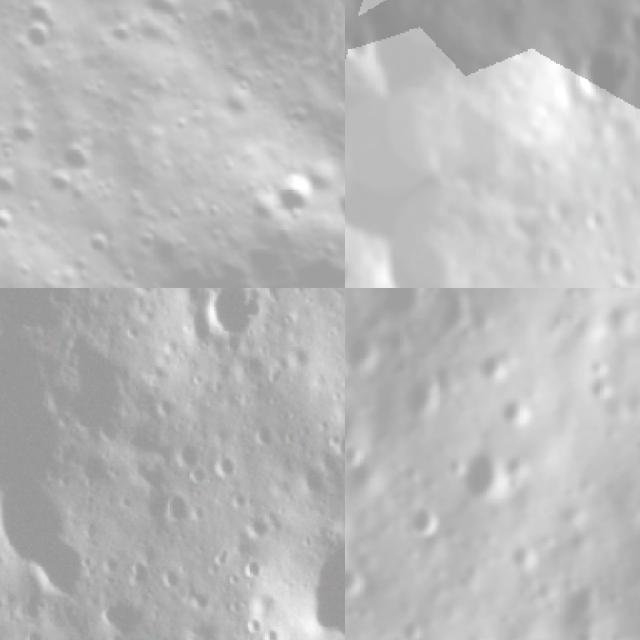crater: (260, 163, 335, 237), (446, 446, 516, 516), (4, 6, 72, 73), (45, 126, 107, 188), (572, 46, 628, 105), (197, 288, 258, 341), (365, 288, 433, 331), (0, 108, 50, 162), (491, 384, 543, 434), (0, 153, 41, 213), (320, 160, 345, 255), (470, 341, 517, 385), (404, 496, 444, 546), (167, 434, 207, 471), (544, 189, 581, 225), (242, 516, 280, 548), (296, 460, 332, 493), (158, 487, 190, 524), (345, 440, 375, 477), (345, 563, 371, 604), (536, 239, 564, 275), (396, 612, 430, 640), (247, 422, 278, 451), (95, 603, 118, 630), (237, 559, 266, 579), (618, 180, 640, 206), (613, 267, 640, 288), (243, 613, 265, 638), (255, 631, 284, 640), (627, 0, 640, 16)
